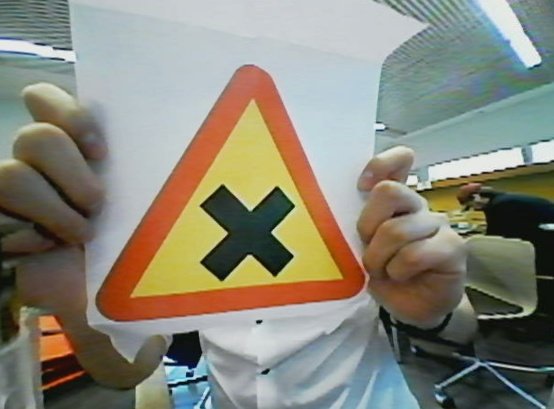junction: (69, 64, 383, 322)
